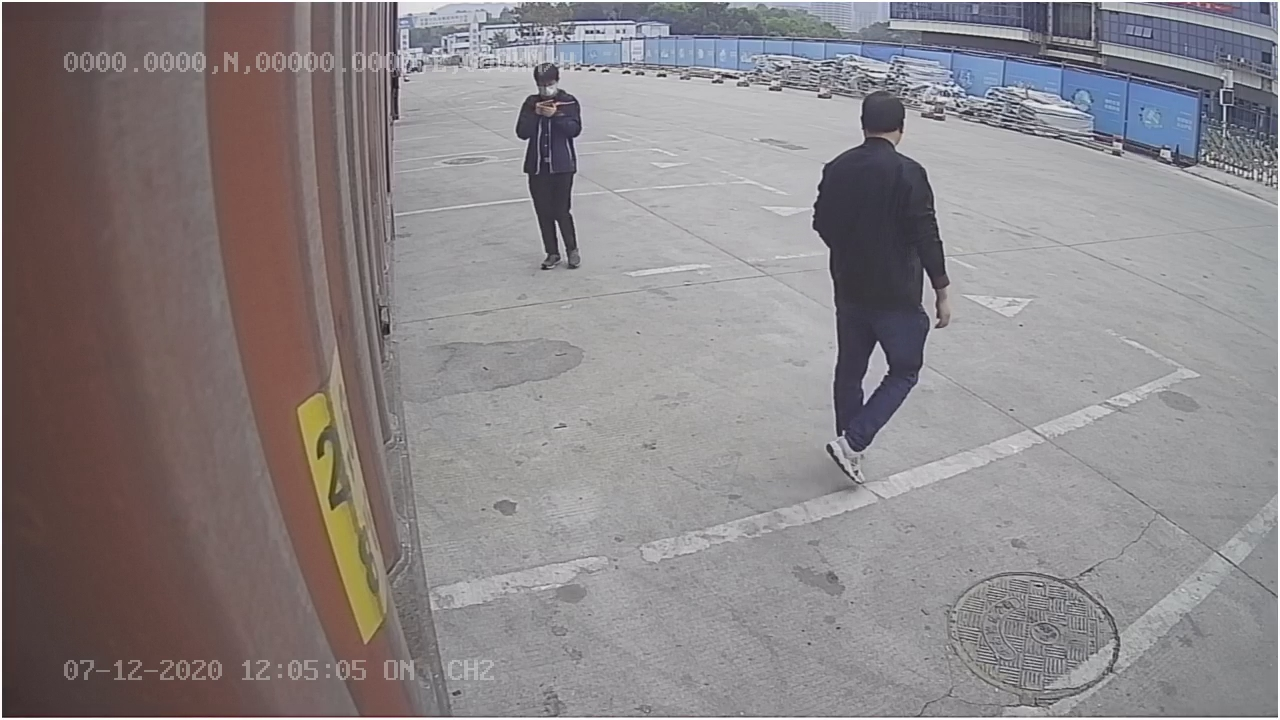person: (803, 83, 952, 484)
